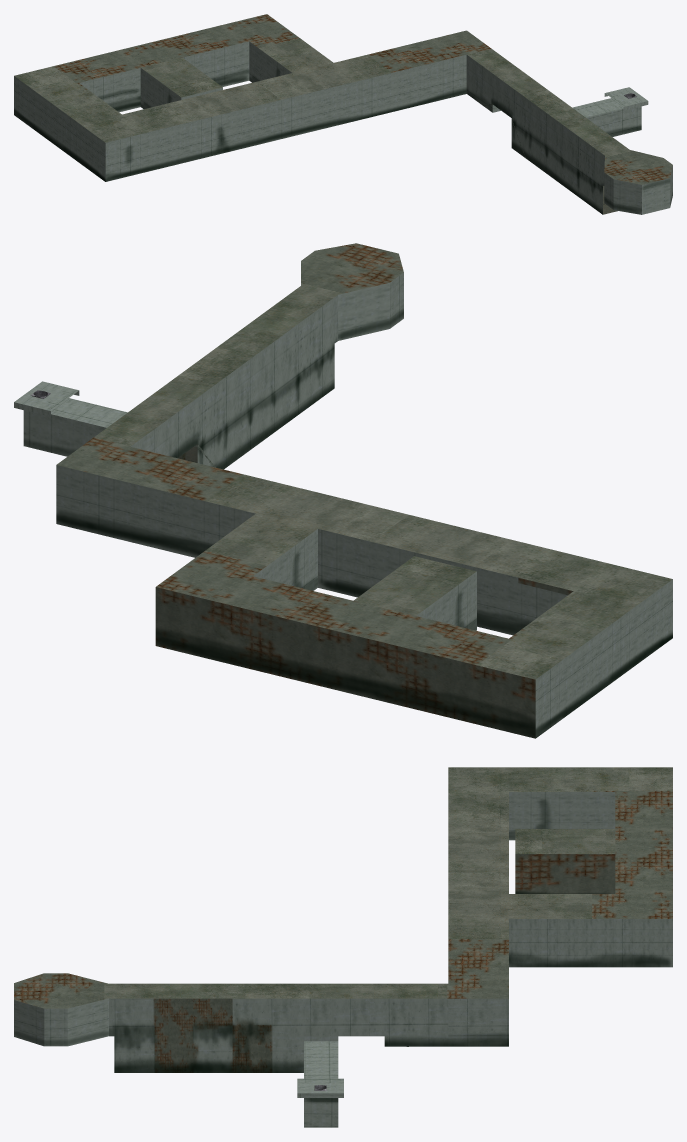
File: Alcantarilla reformada no alterada 002.fbx
3 views of the same model, one above another, from view 1: azimuth 30°, elevation 25°; view 2: azimuth 150°, elevation 25°; view 3: azimuth 270°, elevation 25° (orthographic). The views are drawn at different scales.
Visible parts, largest first — view 1: Alcantarilla; view 2: Alcantarilla; view 3: Alcantarilla.
Part boxes in pixels (bbox=[...]): Alcantarilla: bbox=[14, 14, 672, 214]; Alcantarilla: bbox=[14, 243, 672, 738]; Alcantarilla: bbox=[14, 767, 672, 1127].
Size of the model in its own units: 11591 by 1398 by 11194.
